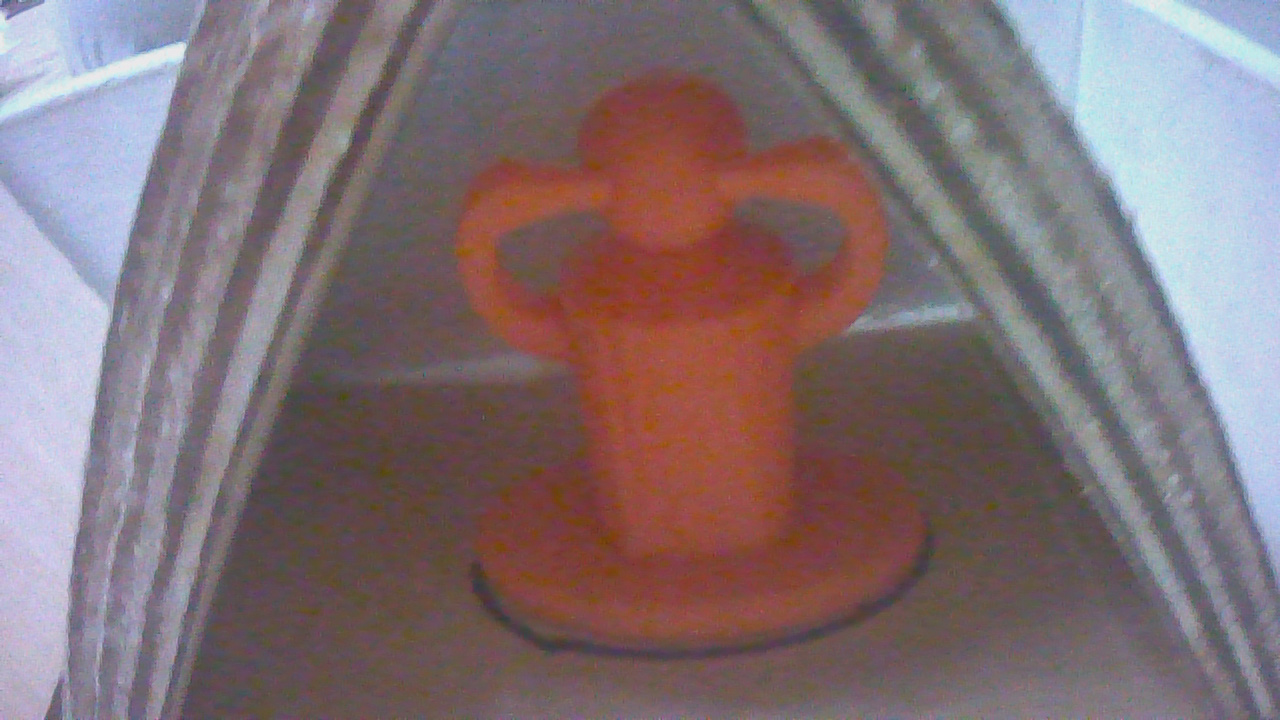real: (457, 61, 928, 649)
